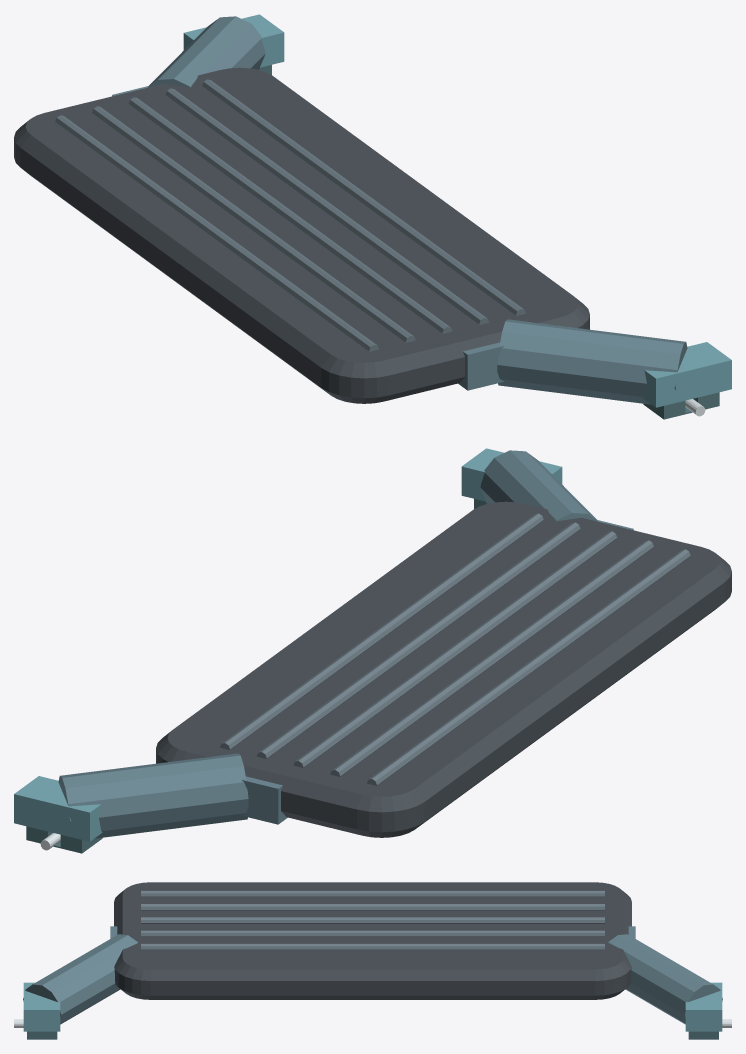
3 renders of one model, top to bottom at view 1: azimuth 30°, elevation 25°; view 2: azimuth 150°, elevation 25°; view 3: azimuth 270°, elevation 25°, orthographic. The views are drawn at different scales.
Parts seen in each view (by area): view 1: S09_Cabin_Footrest, S09_Cabin_Footrest_LowDocks; view 2: S09_Cabin_Footrest, S09_Cabin_Footrest_LowDocks; view 3: S09_Cabin_Footrest, S09_Cabin_Footrest_LowDocks.
Part boxes in pixels (left/top/right/bottom): S09_Cabin_Footrest: left=14, top=67, right=589, bottom=403; S09_Cabin_Footrest_LowDocks: left=112, top=14, right=731, bottom=419; S09_Cabin_Footrest: left=156, top=501, right=731, bottom=837; S09_Cabin_Footrest_LowDocks: left=14, top=448, right=633, bottom=853; S09_Cabin_Footrest: left=114, top=882, right=631, bottom=999; S09_Cabin_Footrest_LowDocks: left=14, top=926, right=731, bottom=1039.
Bounding box in the file's own units: 0.2565 × 0.053 × 0.664.
